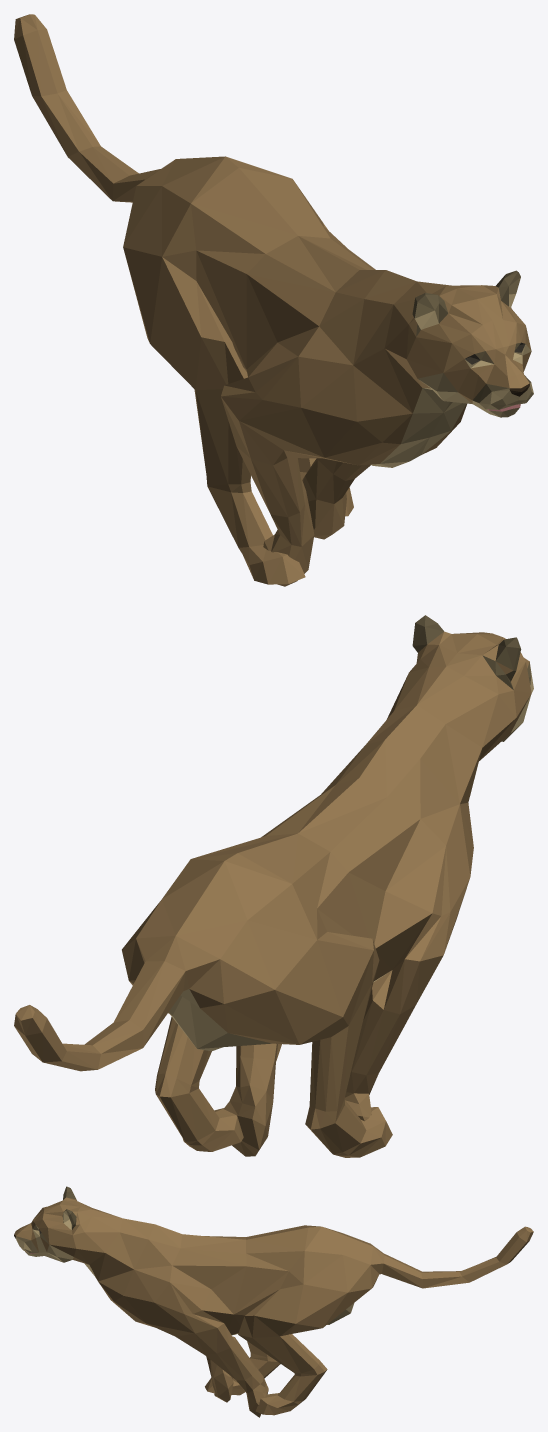
File: mountainlion.glb
3 views of the same model, one above another, from view 1: azimuth 30°, elevation 25°; view 2: azimuth 150°, elevation 25°; view 3: azimuth 270°, elevation 25° (orthographic). The views are drawn at different scales.
Parts seen in each view (by area): view 1: mountainlionRun_A; view 2: mountainlionRun_A; view 3: mountainlionRun_A.
Part boxes in pixels (box(x1,y1,x2,y2)): mountainlionRun_A: box(14, 14, 533, 586); mountainlionRun_A: box(14, 615, 533, 1157); mountainlionRun_A: box(14, 1186, 533, 1417).
Size of the model in its own units: 48.54 by 91.6 by 203.
